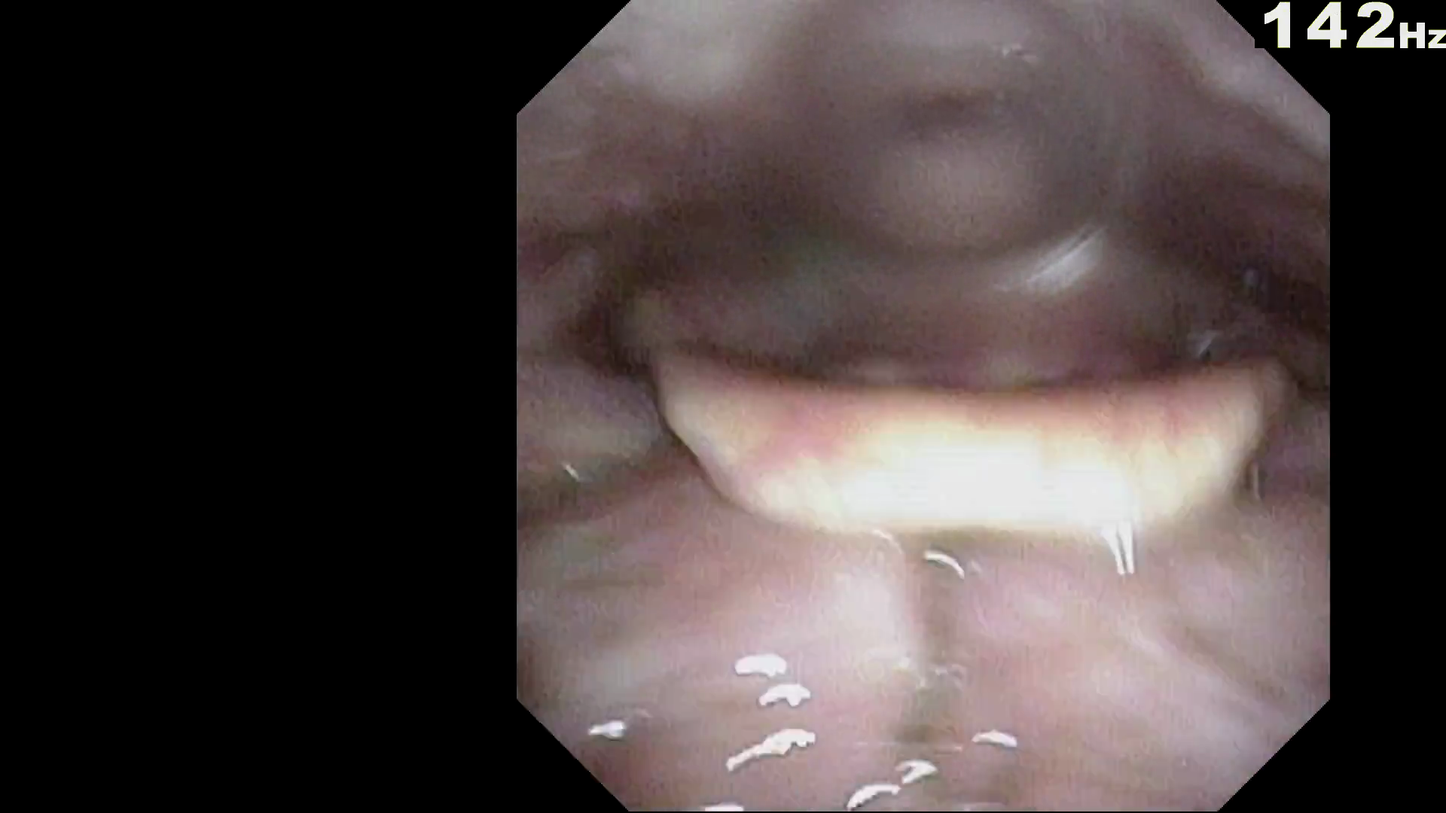epiglottis: (664, 412, 1279, 637)
